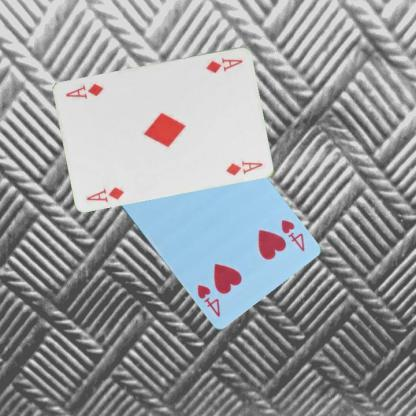4h: (278, 217, 306, 253)
Ad: (84, 184, 125, 203), (204, 55, 244, 74)
